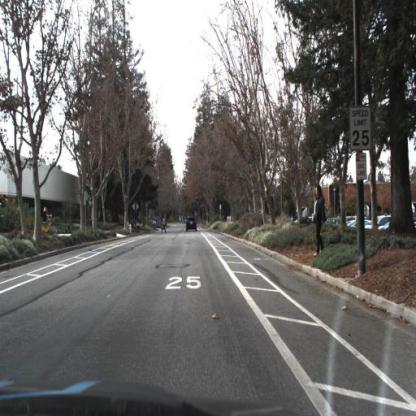biker: (43, 206, 52, 233)
car: (186, 215, 202, 236)
pedestrian: (313, 182, 327, 257), (39, 203, 60, 238), (161, 215, 168, 235)
